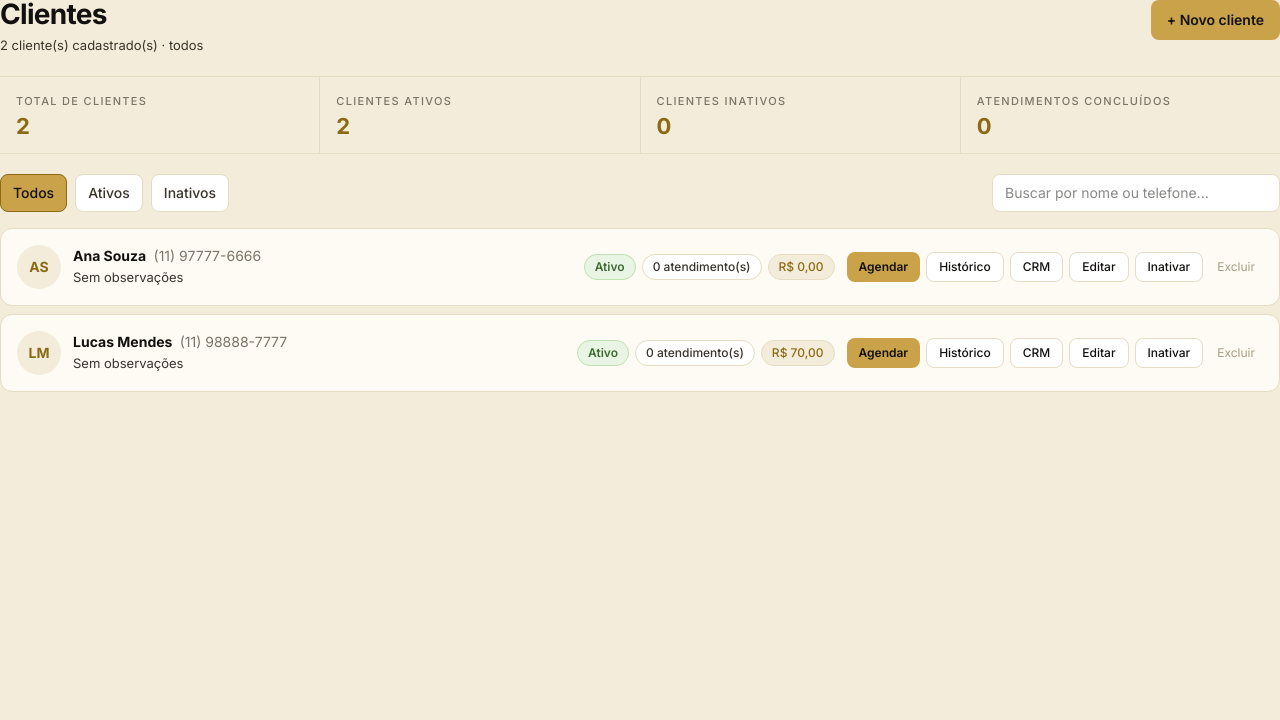
Test: Renomeação de cadastro propaga para a operação › nome duplicado mostra erro no modal e não fecha
Click the button "Editar" in the row of "Ana Souza" at x=1099, y=267, box [1069,252,1129,282]
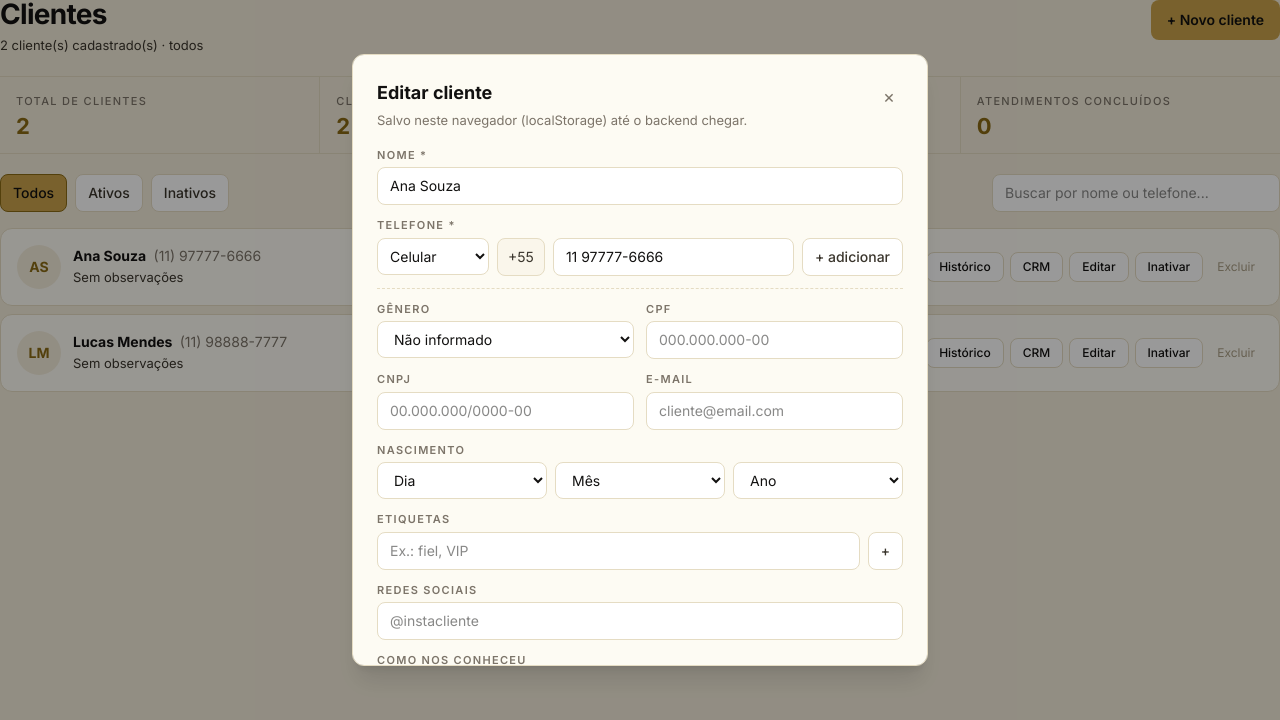
Replace the text in the field labelled "Nome *" with "lucas mendes" at x=640, y=186, box [377,167,903,205]
(page scrolled)
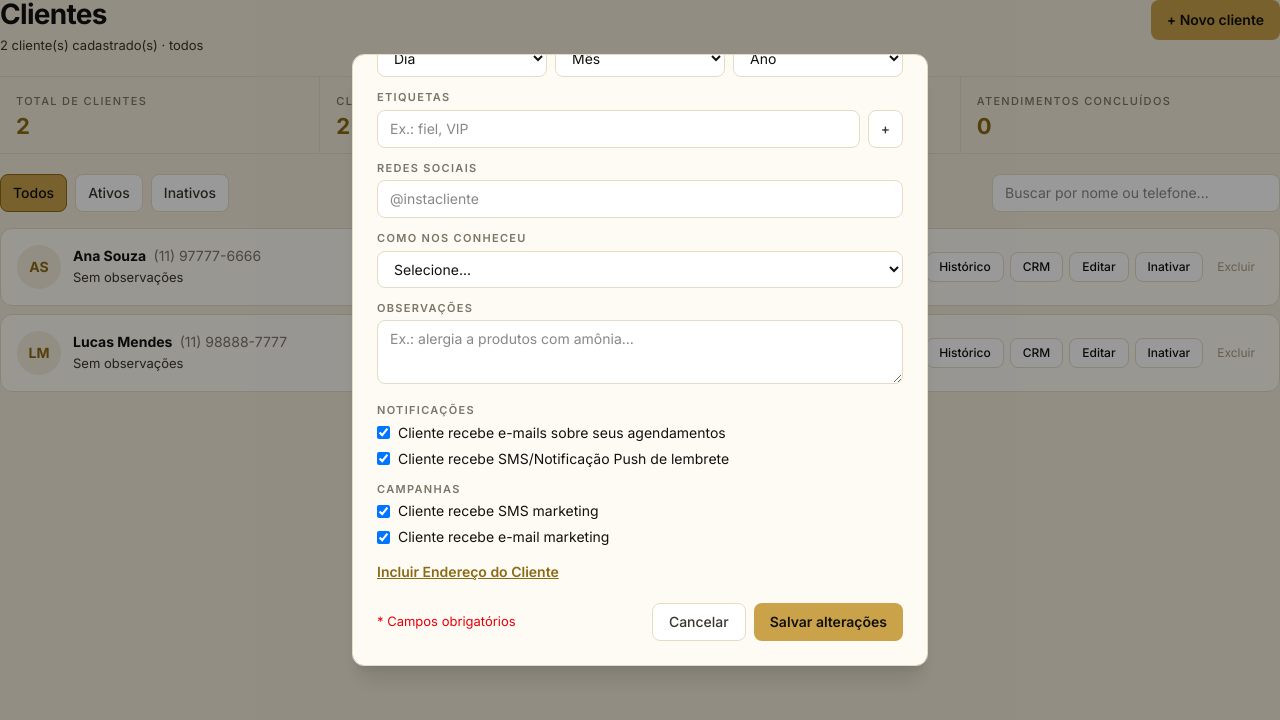
Click the button "Salvar alterações" at x=828, y=622, box [754,603,903,641]
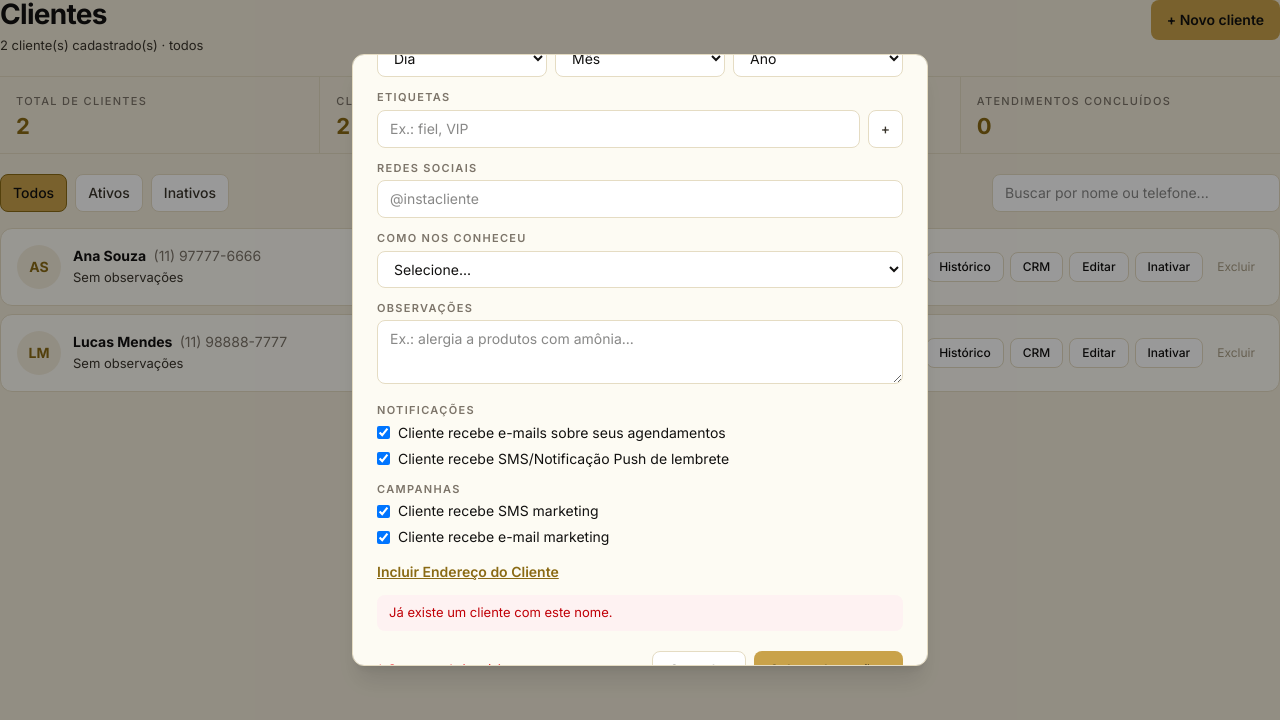
Now the text "Já existe um cliente com este nome." is shown, box [377,595,903,630]
